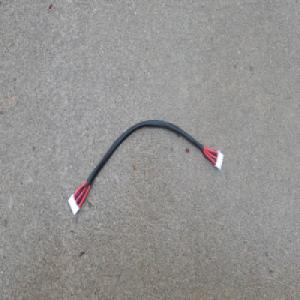Wire: (65, 118, 223, 218)
